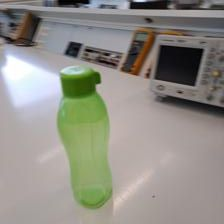bottle: (55, 61, 118, 210)
